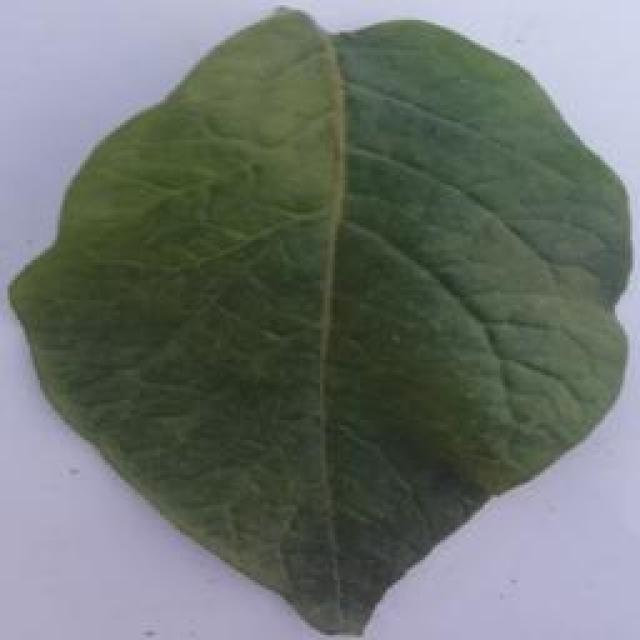Potato_Healthy: (13, 7, 625, 634)
